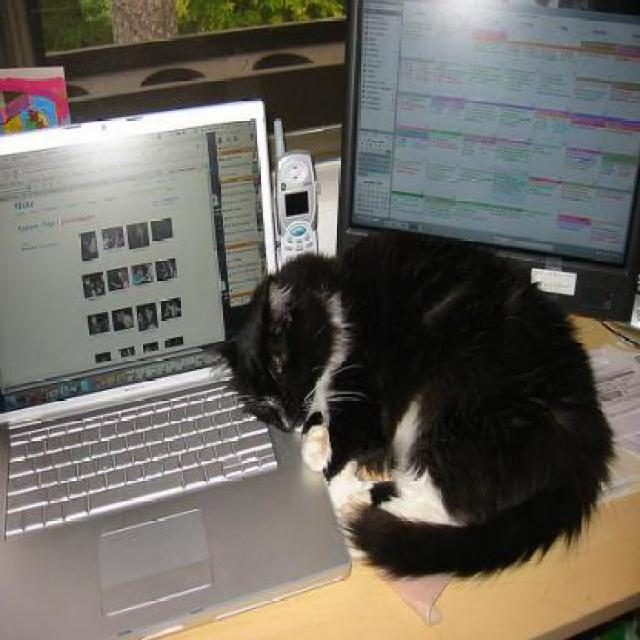Person: (80, 232, 95, 258), (110, 268, 127, 287), (89, 315, 100, 330), (83, 278, 91, 298), (143, 262, 151, 280), (166, 259, 174, 276), (107, 231, 115, 247), (134, 262, 143, 273)
